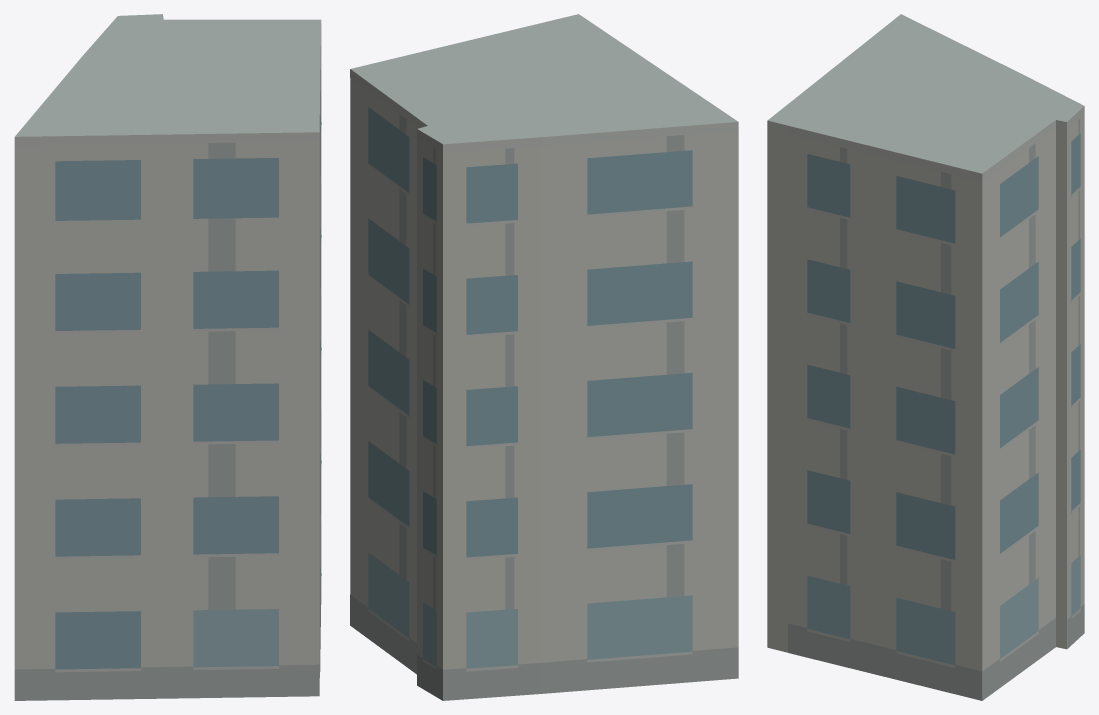
Rendered from survey-upis-32980638.glb.
3 views of the same model, side by side, from view 1: azimuth 30°, elevation 25°; view 2: azimuth 150°, elevation 25°; view 3: azimuth 270°, elevation 25° (orthographic). The views are drawn at different scales.
Parts seen in each view (by area): view 1: survey-upis-32980638.tmp; view 2: survey-upis-32980638.tmp; view 3: survey-upis-32980638.tmp.
Part boxes in pixels (left/top/right/bottom): survey-upis-32980638.tmp: left=14, top=14, right=321, bottom=700; survey-upis-32980638.tmp: left=350, top=14, right=738, bottom=700; survey-upis-32980638.tmp: left=767, top=14, right=1084, bottom=700.
Size of the model in its own units: 9.91 by 15.25 by 8.32.
